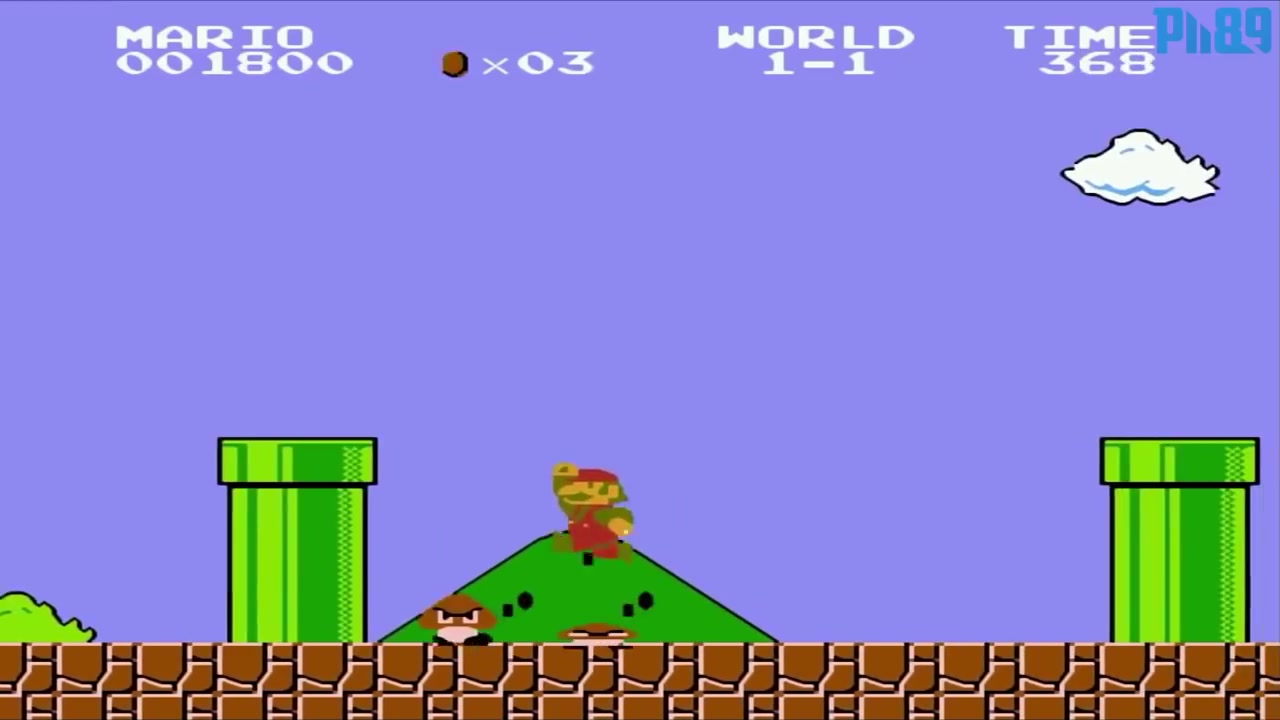mario: (547, 461, 639, 564)
